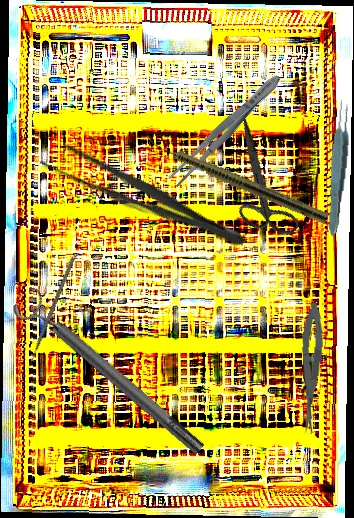Dressing Forceps: (36, 135, 253, 258), (165, 69, 286, 191)
Fixation Ring: (9, 282, 212, 466)
Handpiece: (141, 133, 331, 226)
Iris Scissors: (192, 117, 330, 252)
Micro Scissor: (295, 302, 326, 435)
Pusher: (24, 256, 76, 374)
Tissue Forceps: (324, 98, 354, 237)
